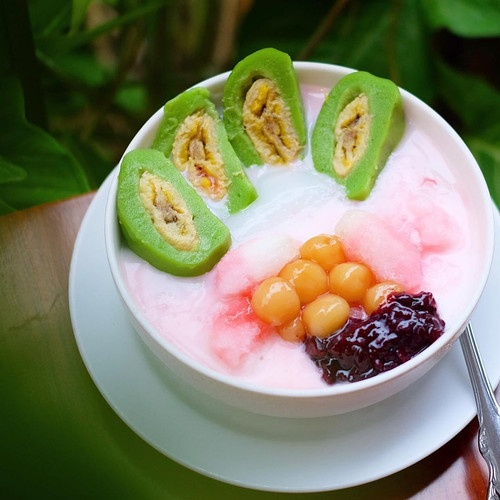pisang_ijo: (92, 148, 235, 280)
